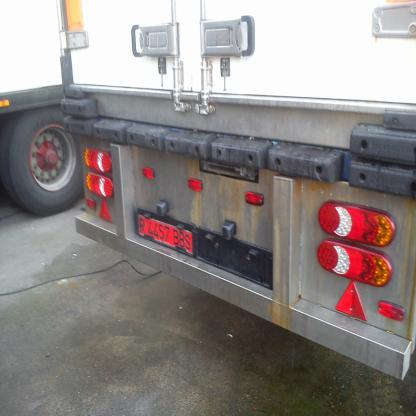Truck: (53, 0, 415, 382)
